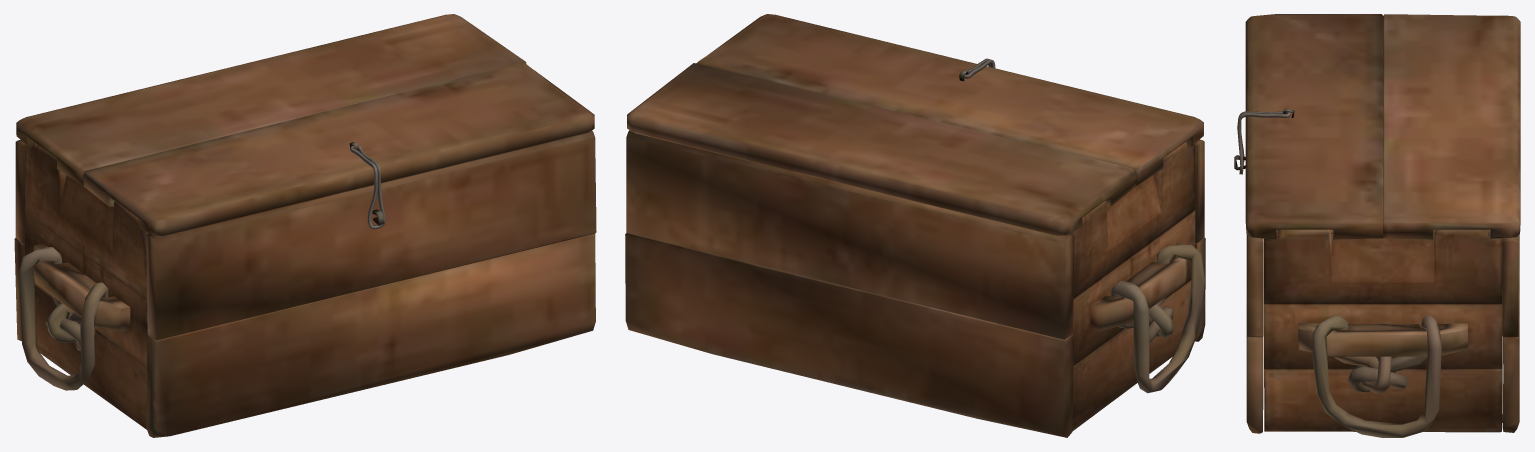
File: crate.glb
3 views of the same model, side by side, from view 1: azimuth 30°, elevation 25°; view 2: azimuth 150°, elevation 25°; view 3: azimuth 270°, elevation 25° (orthographic). The views are drawn at different scales.
Parts seen in each view (by area): view 1: wooden_crate_01, wooden_crate_01_lid, wooden_crate_01_latch; view 2: wooden_crate_01, wooden_crate_01_lid; view 3: wooden_crate_01_lid, wooden_crate_01, wooden_crate_01_latch.
Part boxes in pixels (left/top/right/bottom): wooden_crate_01: left=14, top=131, right=596, bottom=437; wooden_crate_01_lid: left=16, top=14, right=594, bottom=236; wooden_crate_01_latch: left=350, top=145, right=385, bottom=229; wooden_crate_01: left=625, top=130, right=1205, bottom=437; wooden_crate_01_lid: left=627, top=14, right=1203, bottom=236; wooden_crate_01_lid: left=1245, top=14, right=1520, bottom=239; wooden_crate_01: left=1234, top=155, right=1519, bottom=437; wooden_crate_01_latch: left=1237, top=111, right=1290, bottom=174.
Size of the model in its own units: 0.8245 by 0.3468 by 0.4069.
Materials: 1 (1 with a texture image).
